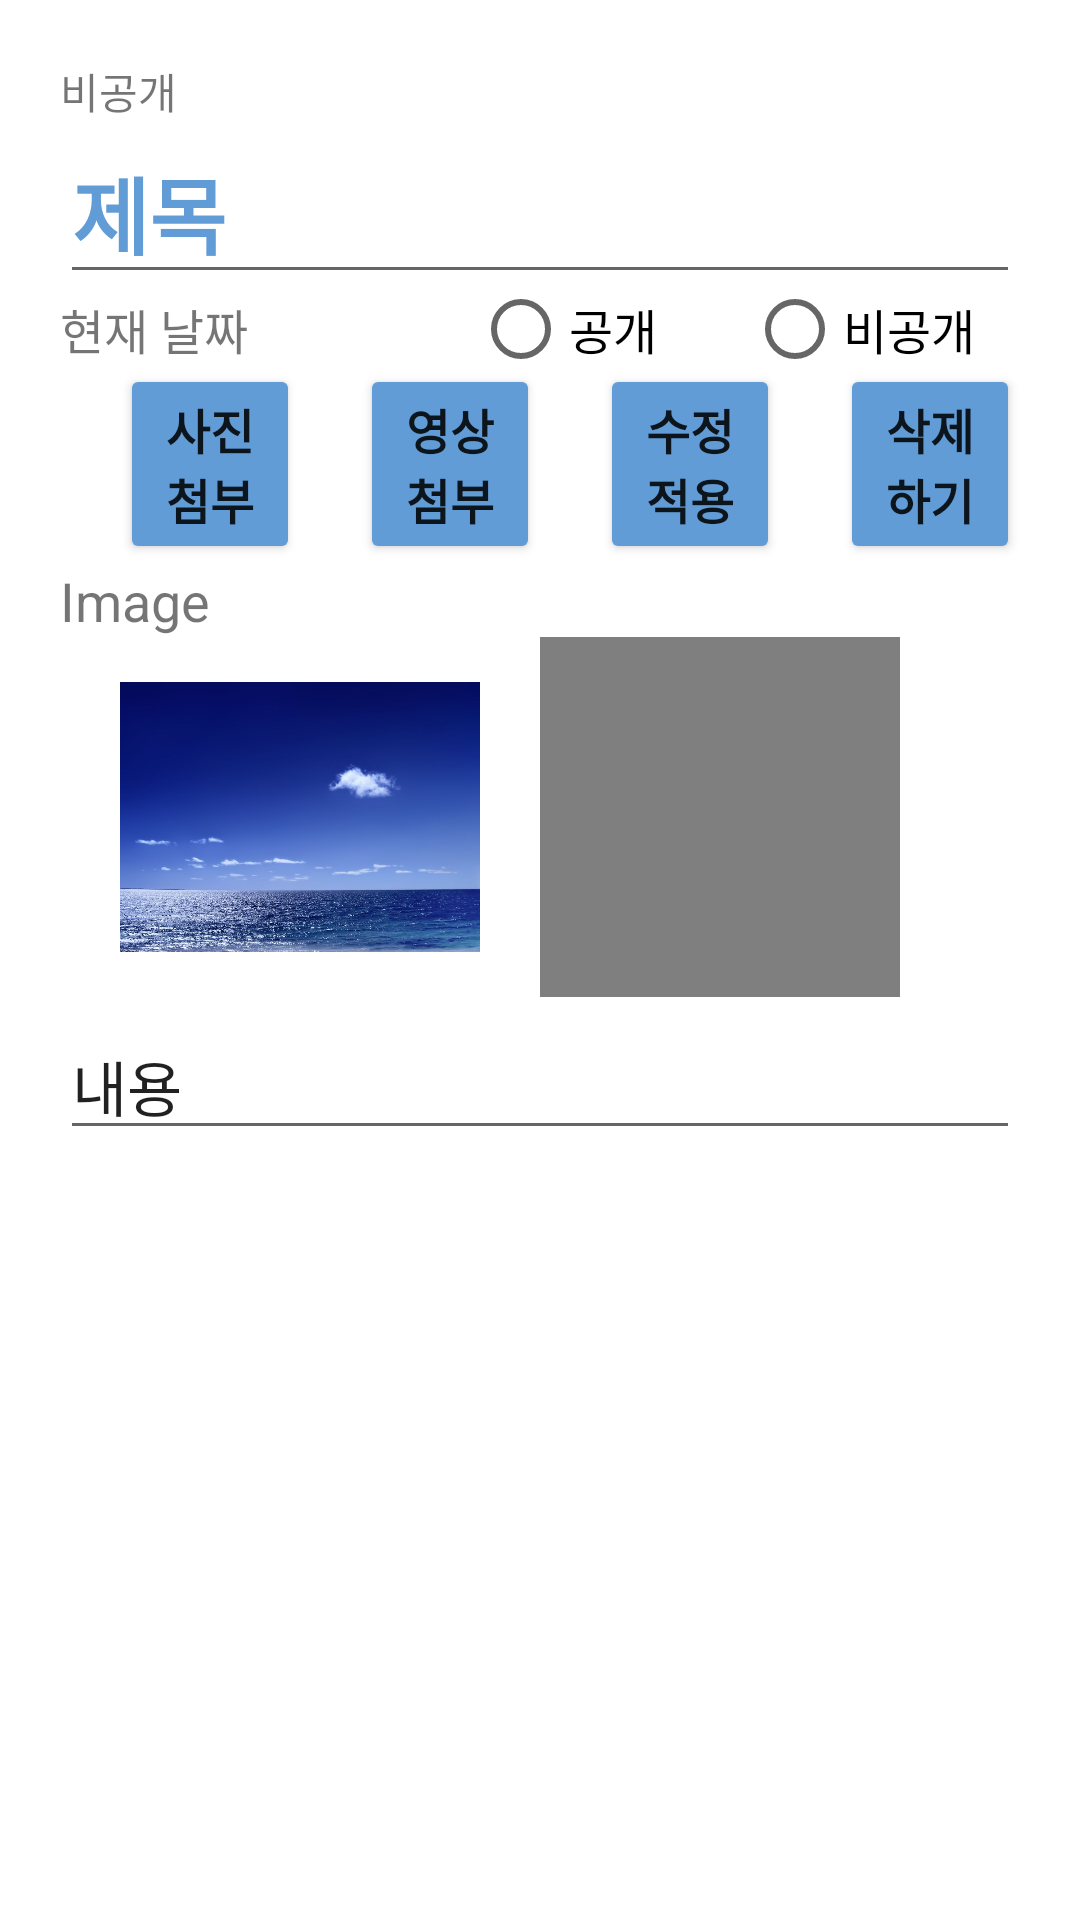

Point at icon controls on the screen. Image size 1080 × 1920, points as (x=x, y=y).
sea: (x=300, y=817)
